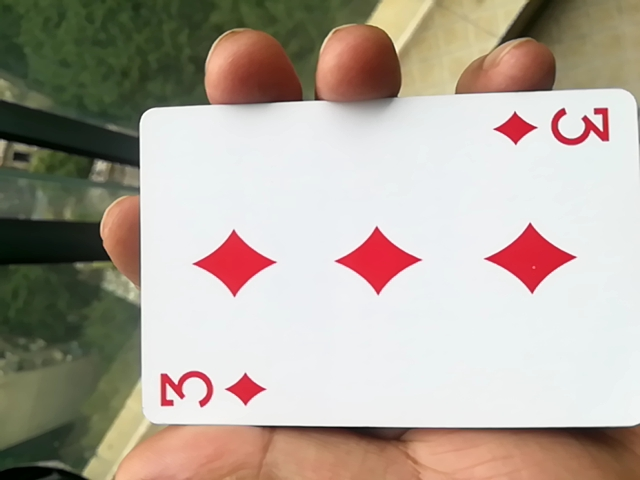fk 3: (126, 107, 633, 457)
